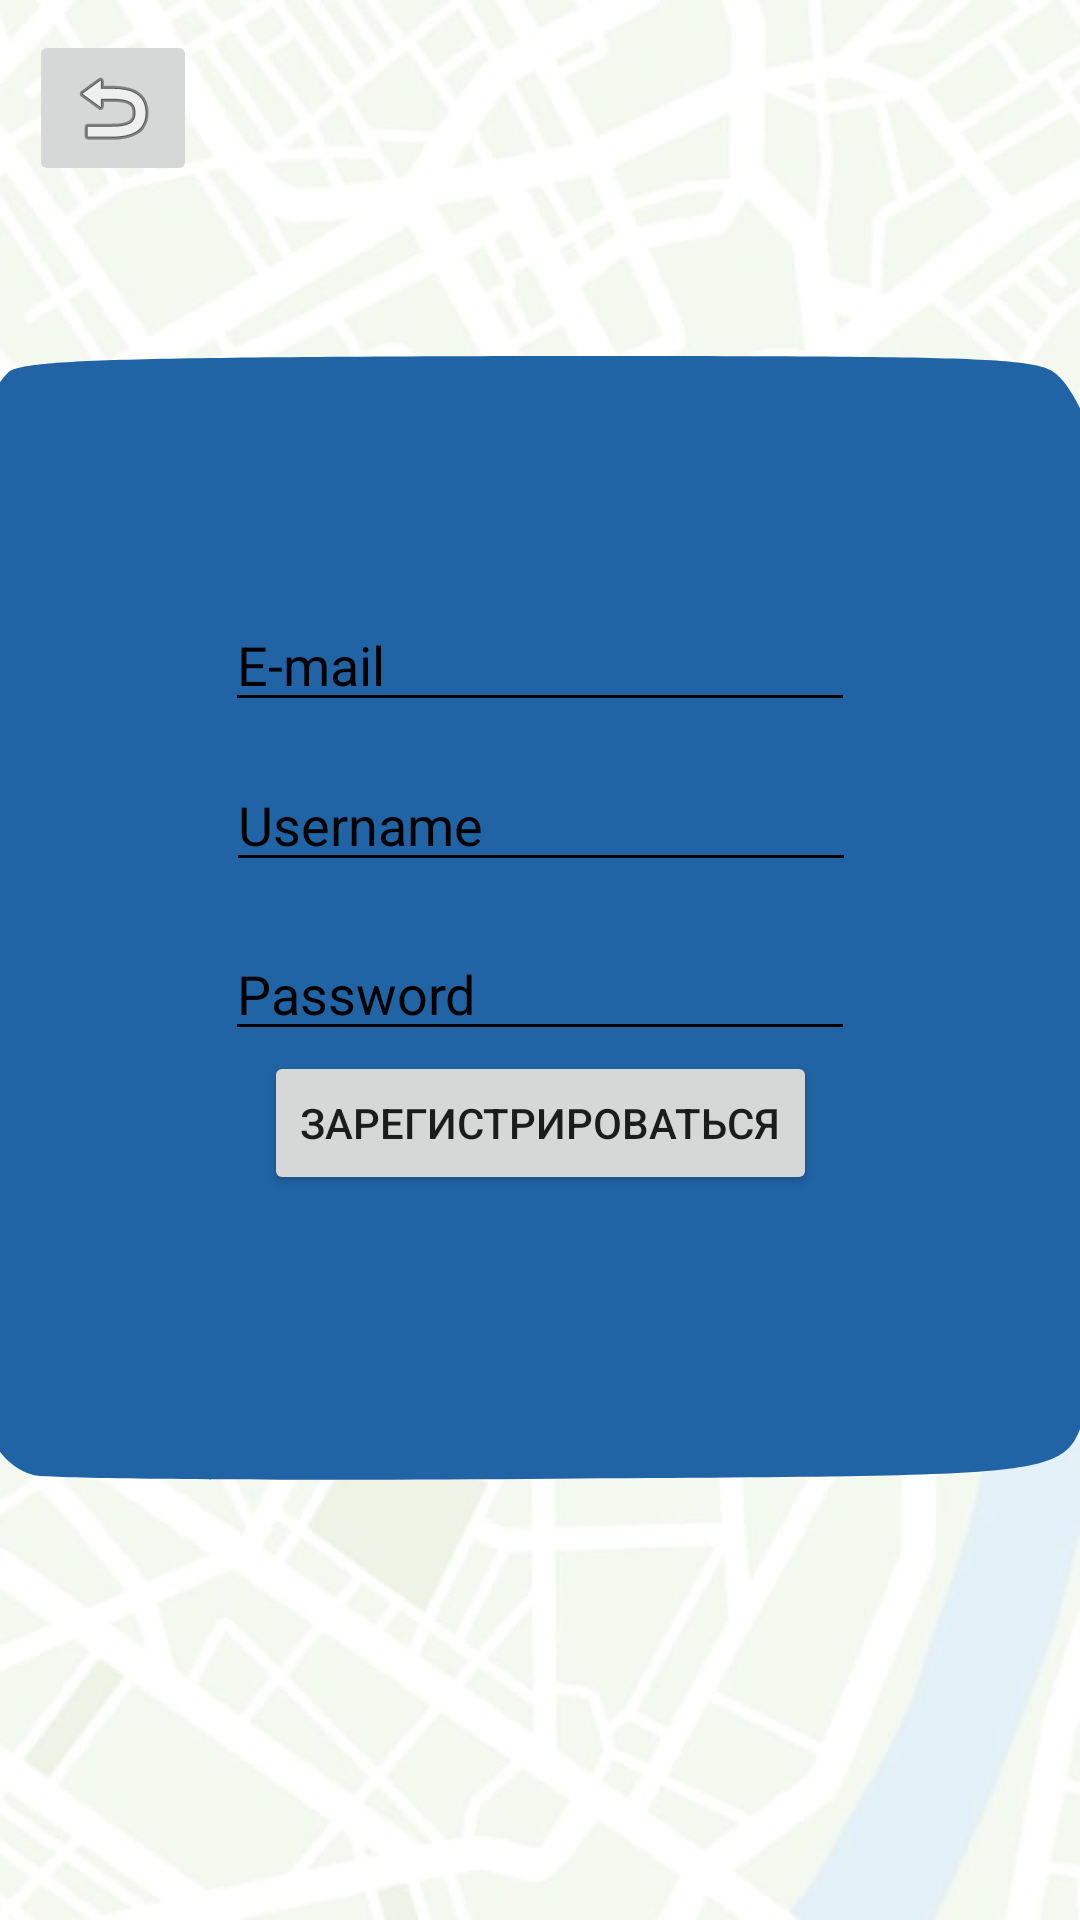

Point at icon controls on the screen. Image size 1080px x 1920px, points as point (x, y).
revert: point (113, 108)
